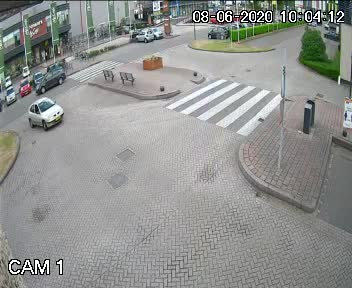car: (21, 97, 66, 131)
